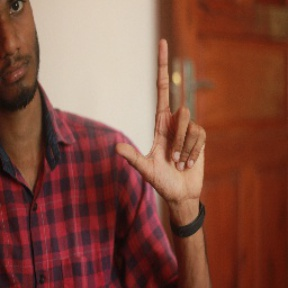L: (112, 38, 209, 197)
